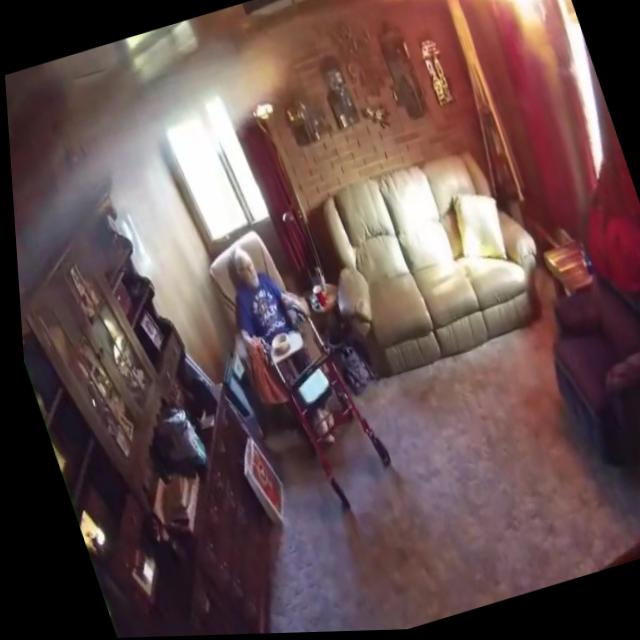fire: (366, 0, 569, 44)
